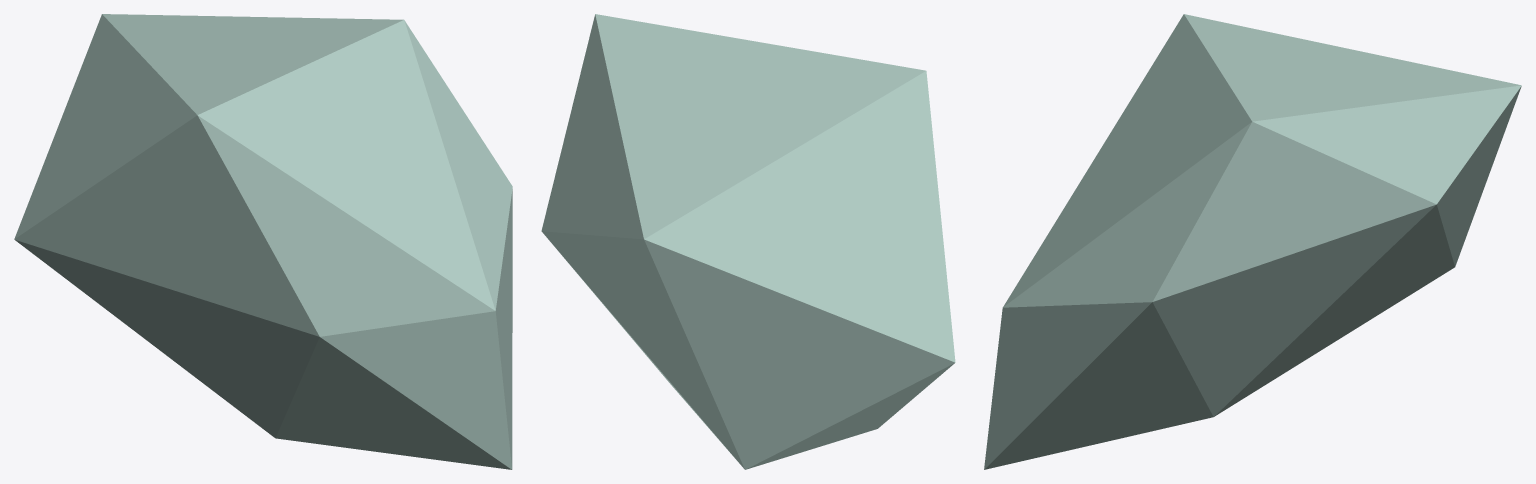
File: kamen1.fbx
The picture shows the model from 3 angles, left to right: view 1: azimuth 30°, elevation 25°; view 2: azimuth 150°, elevation 25°; view 3: azimuth 270°, elevation 25°; orthographic projection. The views are drawn at different scales.
Parts seen in each view (by area): view 1: kamen1; view 2: kamen1; view 3: kamen1.
Part boxes in pixels (x1=…): kamen1: x1=14, y1=14, x2=512, y2=469; kamen1: x1=541, y1=14, x2=955, y2=469; kamen1: x1=984, y1=14, x2=1521, y2=469.
Size of the model in its own units: 134 by 111 by 150.
